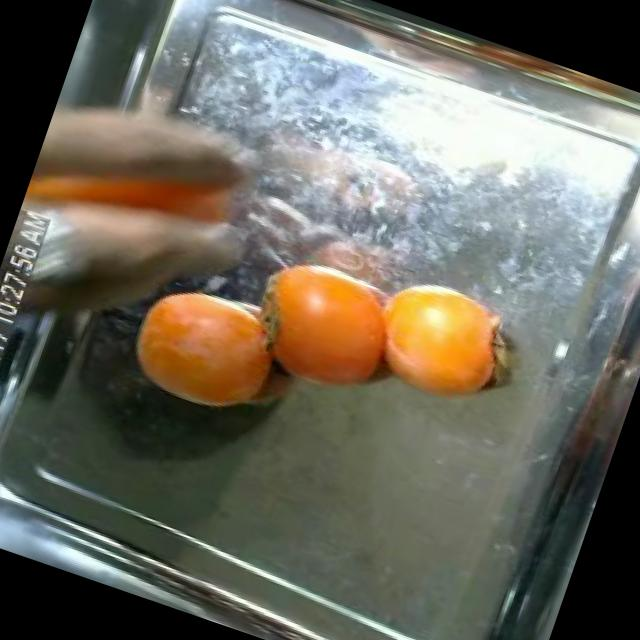Fruit: (214, 232, 437, 429), (99, 262, 310, 448), (348, 254, 534, 426)
